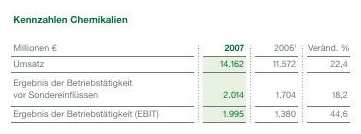table: (0, 0, 361, 134)
